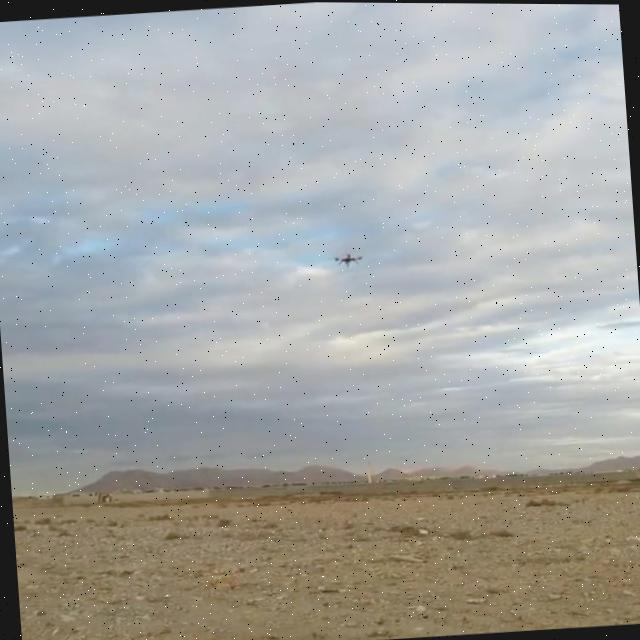drone: (328, 247, 367, 270)
